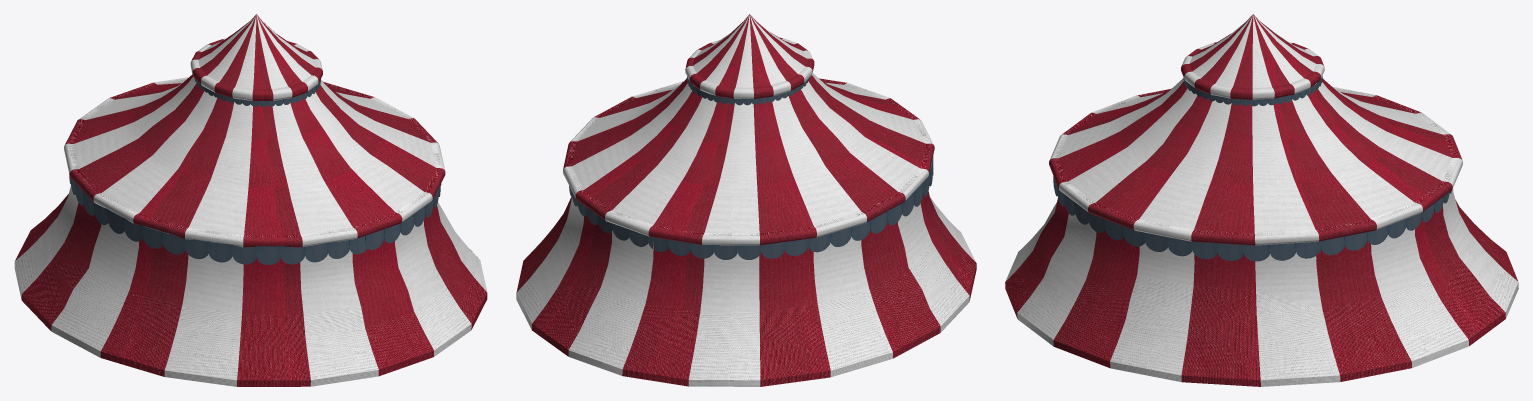
Rendered from CircusTent 1.fbx.
3 renders of one model, left to right at view 1: azimuth 30°, elevation 25°; view 2: azimuth 150°, elevation 25°; view 3: azimuth 270°, elevation 25°, orthographic. The views are drawn at different scales.
Parts seen in each view (by area): view 1: CircusTent; view 2: CircusTent; view 3: CircusTent.
Boxes of the visible parts, x1,y1,x2,y2 form: CircusTent: (14, 14, 487, 386); CircusTent: (516, 14, 976, 386); CircusTent: (1005, 14, 1518, 386).
Bounding box in the file's own units: 12.37 × 8.1 × 13.69.
Materials: 6 (3 with a texture image).
